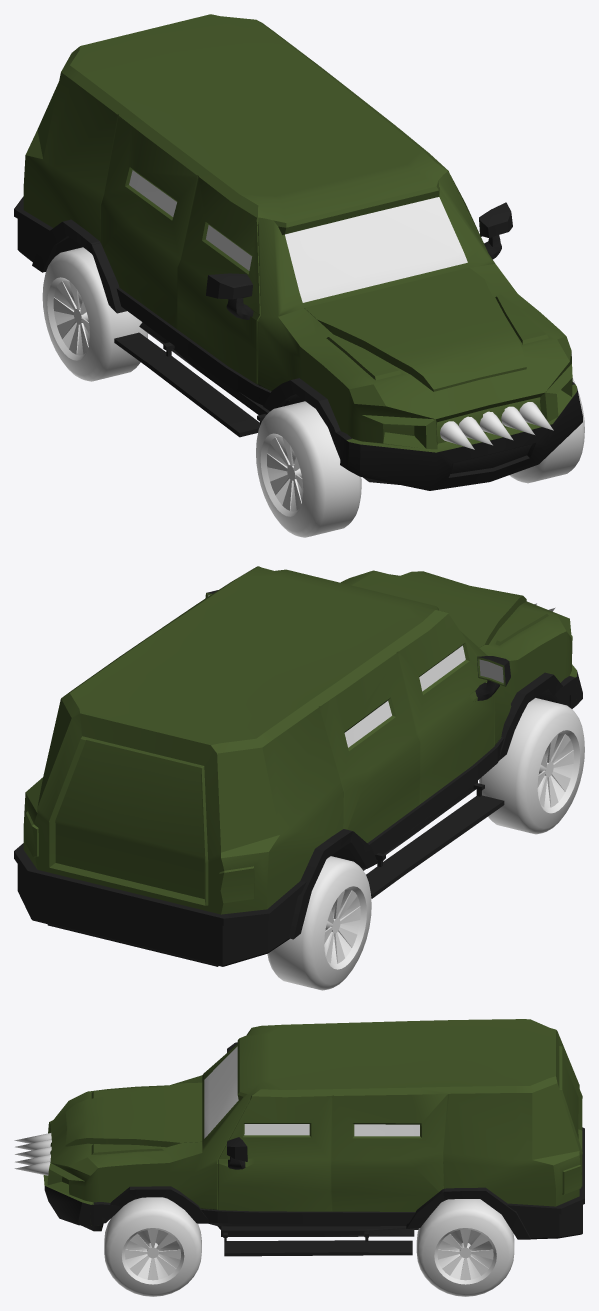
File: LP_HeavyCar.fbx
The picture shows the model from 3 angles, top to bottom: view 1: azimuth 30°, elevation 25°; view 2: azimuth 150°, elevation 25°; view 3: azimuth 270°, elevation 25°; orthographic projection. The views are drawn at different scales.
Visible parts, largest first — view 1: LP_HeavyBody, HFront_R, HBack_R, Spikes, HFront_L; view 2: LP_HeavyBody, HFront_R, HBack_R; view 3: LP_HeavyBody, HFront_L, HBack_L, Spikes.
Boxes of the visible parts, box(x1,y1,x2,y2) form: LP_HeavyBody: box(14, 14, 582, 490); HFront_R: box(256, 401, 361, 537); HBack_R: box(42, 247, 148, 381); Spikes: box(440, 402, 553, 449); HFront_L: box(509, 378, 584, 483); LP_HeavyBody: box(14, 566, 582, 966); HFront_R: box(479, 698, 584, 834); HBack_R: box(267, 856, 371, 990); LP_HeavyBody: box(43, 1019, 584, 1256); HFront_L: box(104, 1197, 201, 1296); HBack_L: box(416, 1199, 514, 1296); Spikes: box(14, 1133, 51, 1175).
Bounding box in the file's own units: 7.22 × 2.77 × 3.23.
